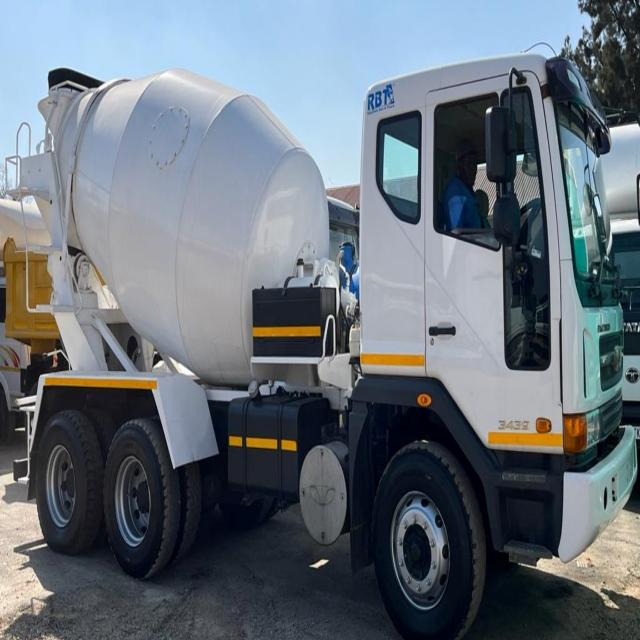Mixer Truck: (6, 54, 637, 640)
